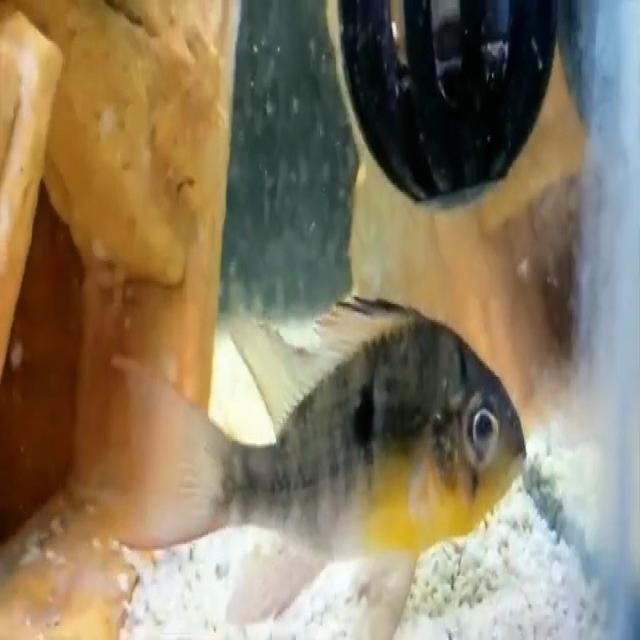fish: (121, 290, 532, 640)
